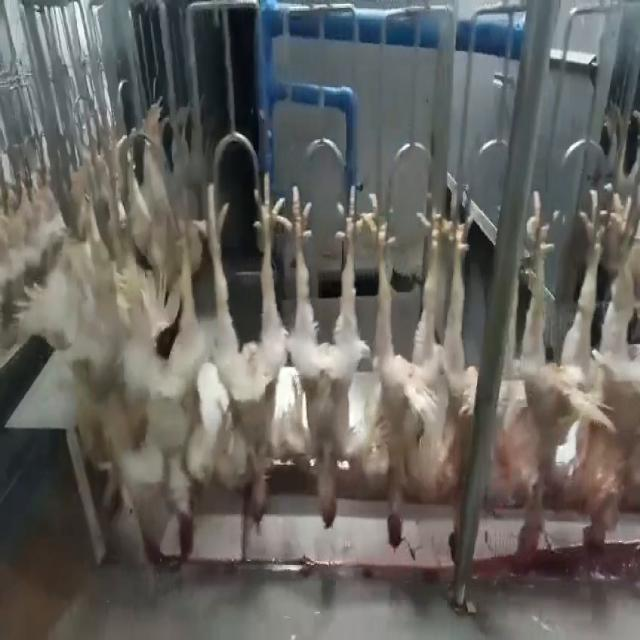chicken: (501, 190, 604, 574), (124, 182, 201, 569), (201, 162, 281, 533), (362, 201, 447, 549), (282, 181, 361, 530), (43, 195, 123, 530), (589, 177, 639, 556), (436, 175, 486, 472)
